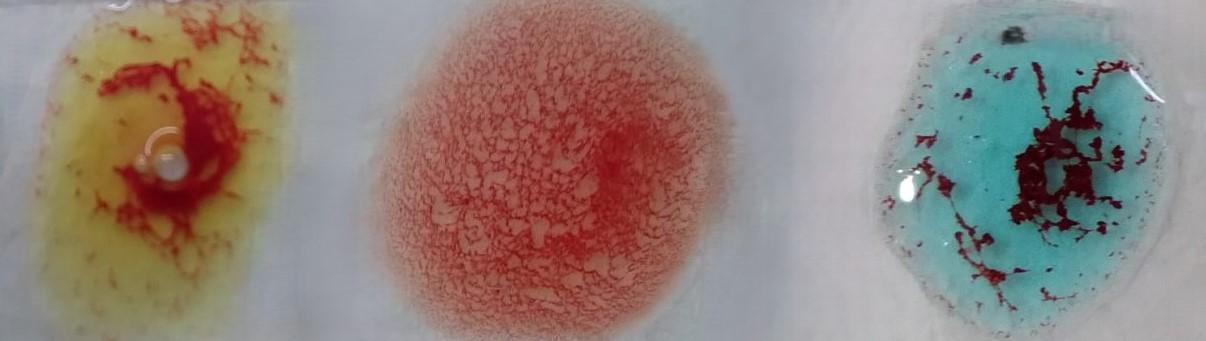A: (888, 15, 1179, 341)
B: (38, 14, 274, 318)
D: (398, 4, 730, 335)
